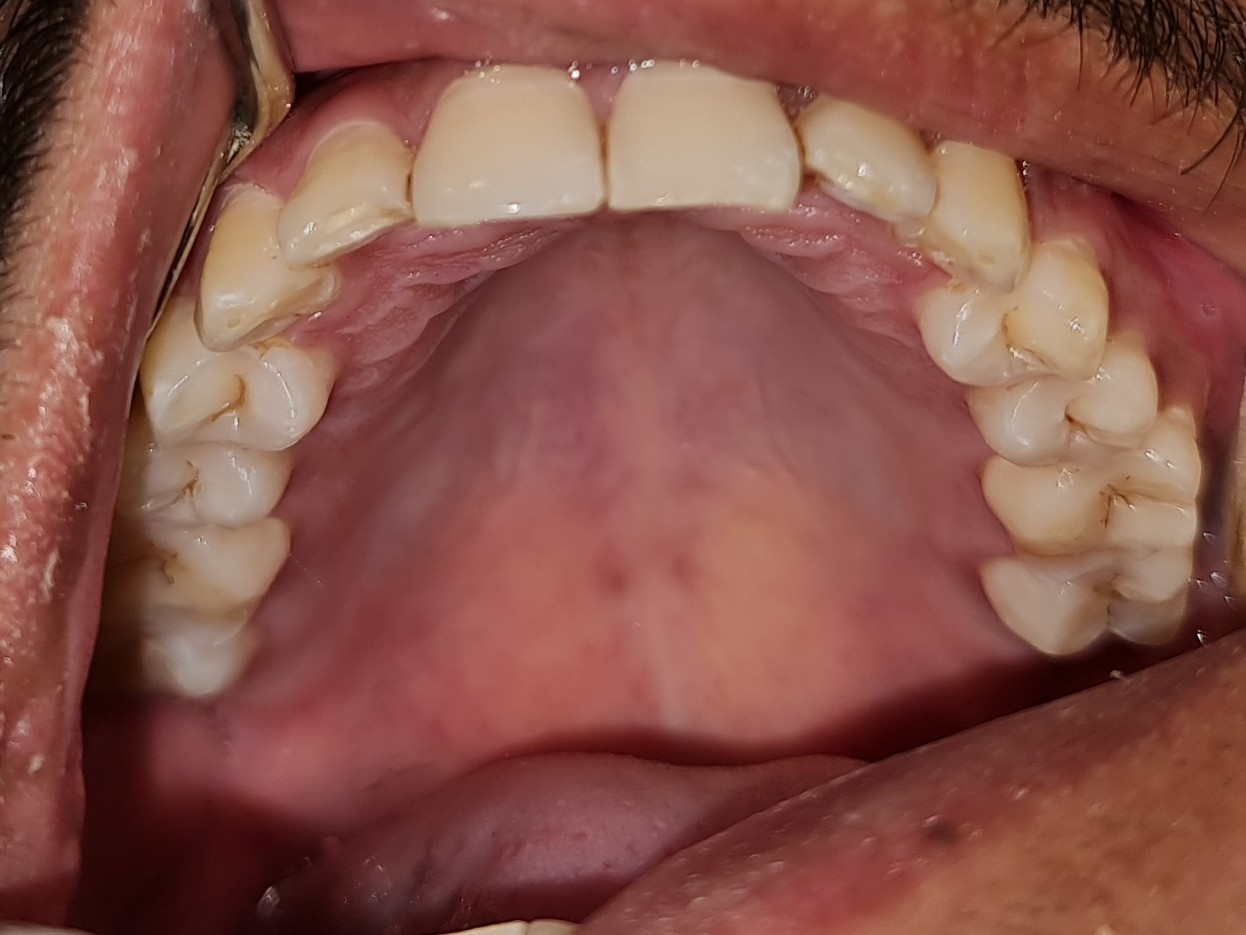D: (974, 407, 1203, 556), (962, 327, 1160, 467)
